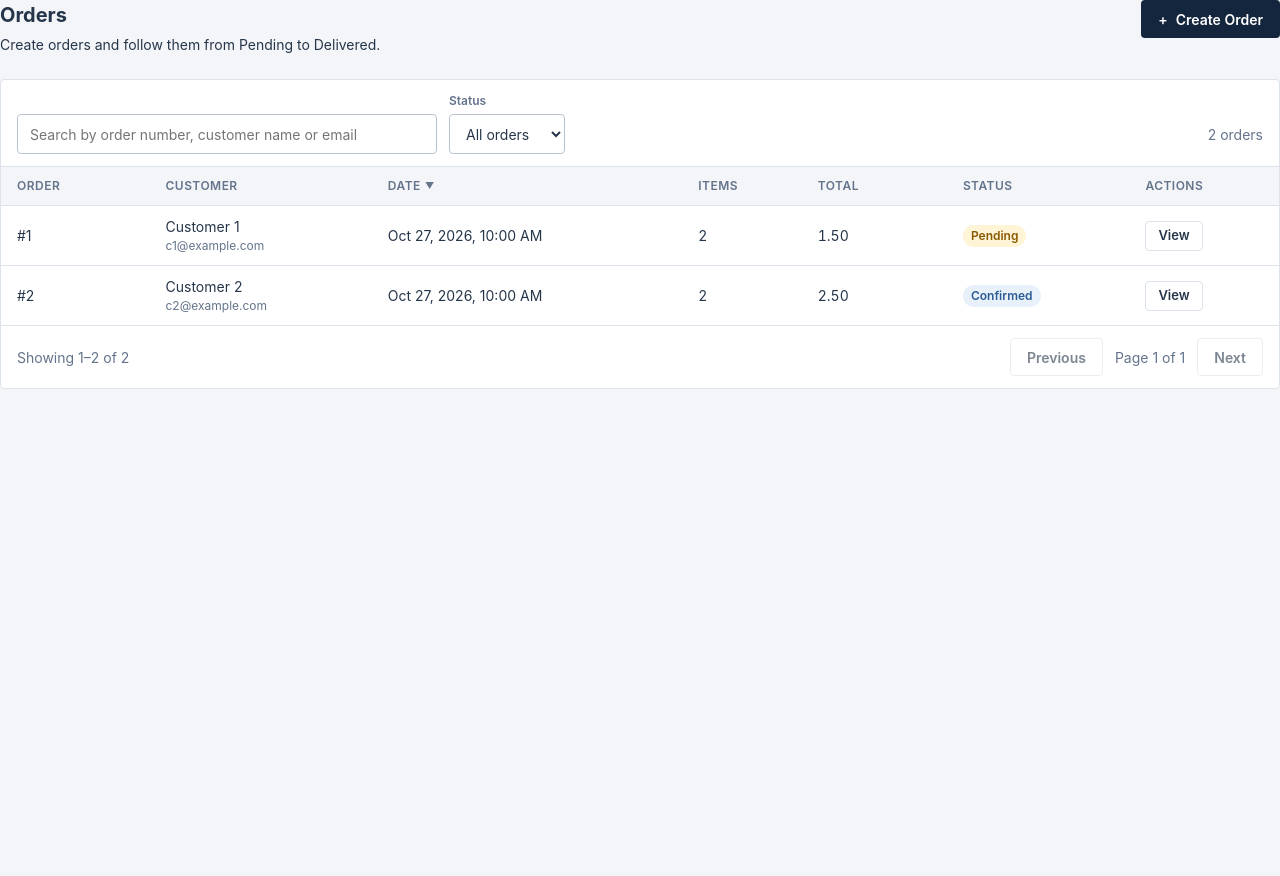
Test case: creating an order › a partial success is shown as created, says not to create it again, and reloads the list
expect the text "Customer 1" is shown: met, box [166,218,240,235]
Click the button "+ Create Order".
click(1211, 19)  # box [1141,0,1279,38]
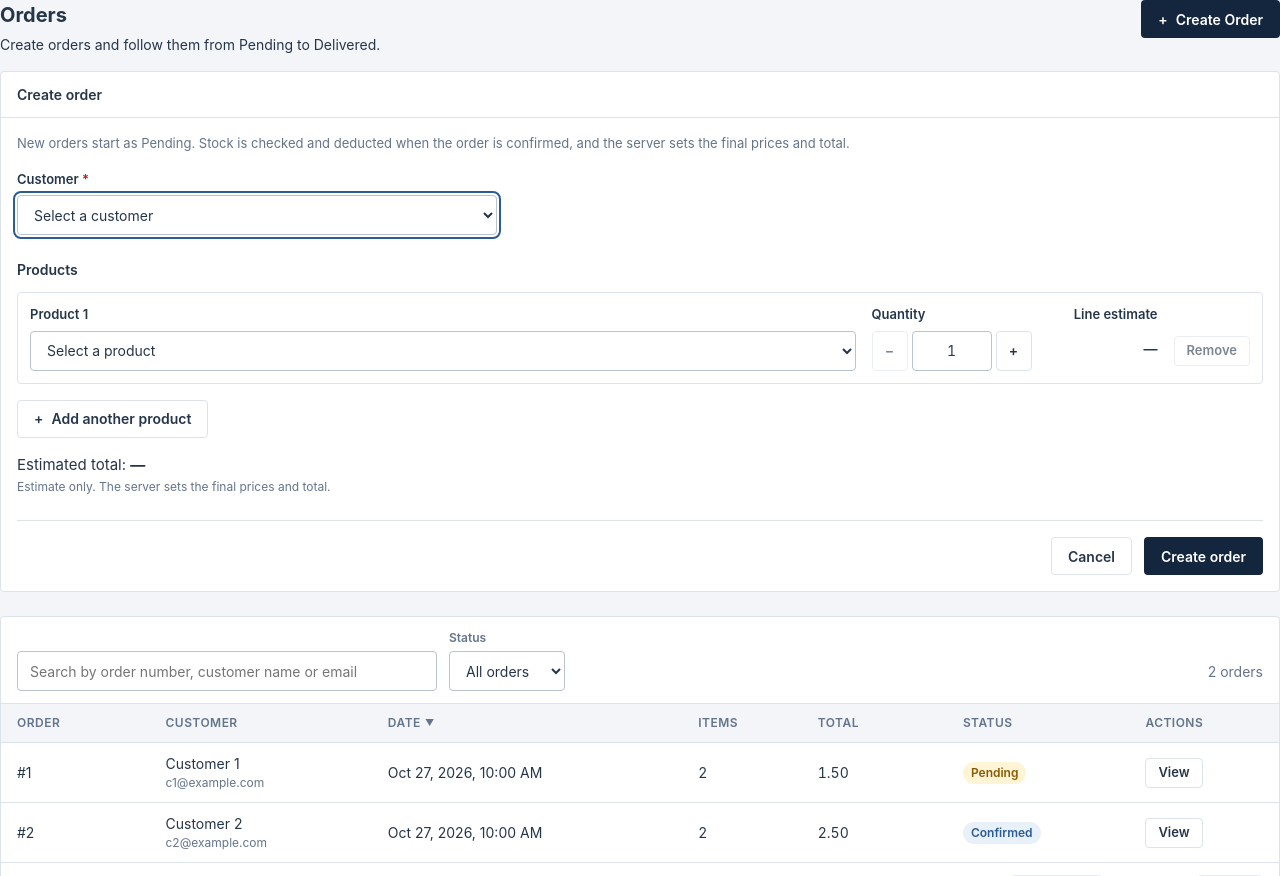
expect the dropdown labelled "Customer *" is shown: met
Select "Ann Lee (ann@example.com)" in the dropdown labelled "Customer *" at (257, 215), box [17,195,497,235]
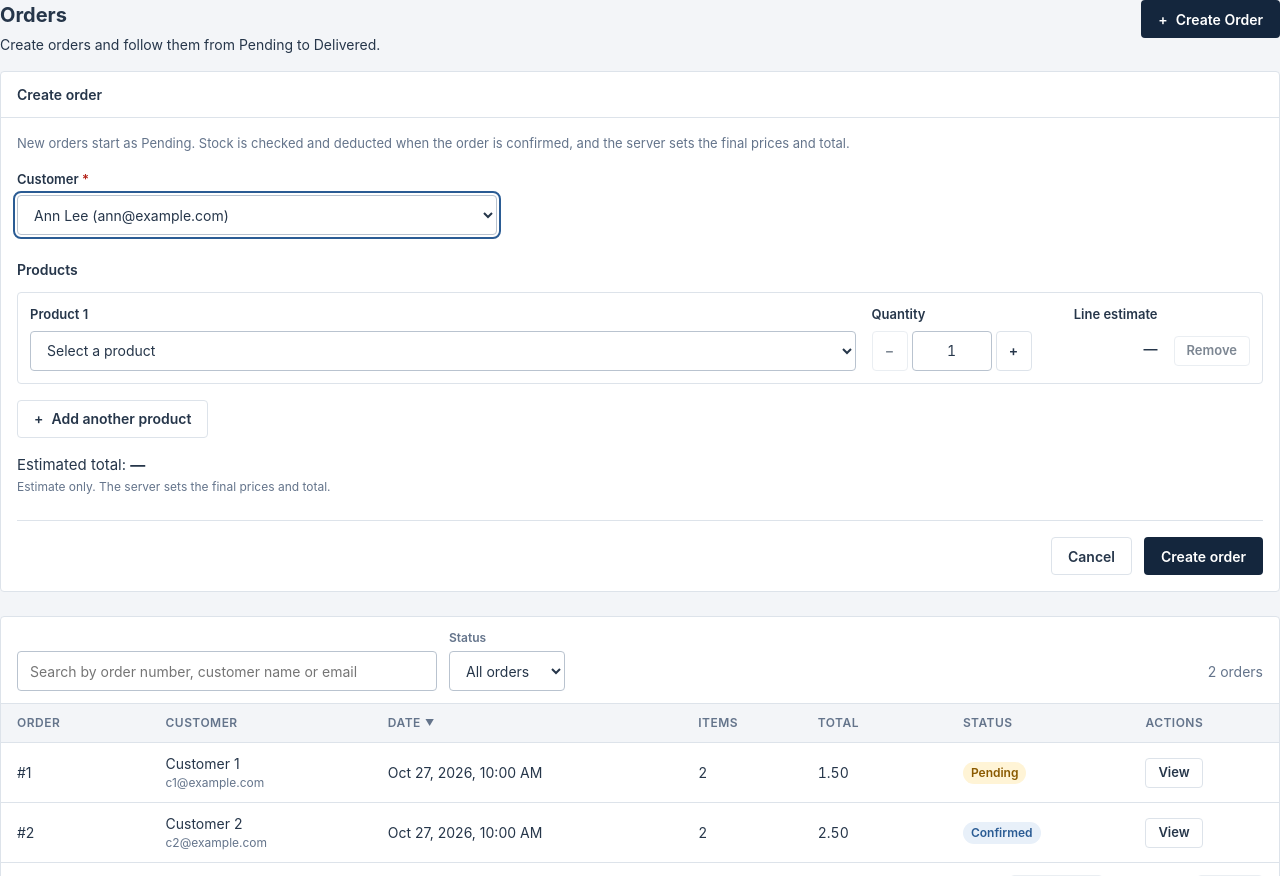
Select "AAA-1 — Widget (10.00)" in the dropdown labelled "Product 1" at (443, 350), box [30,330,856,370]
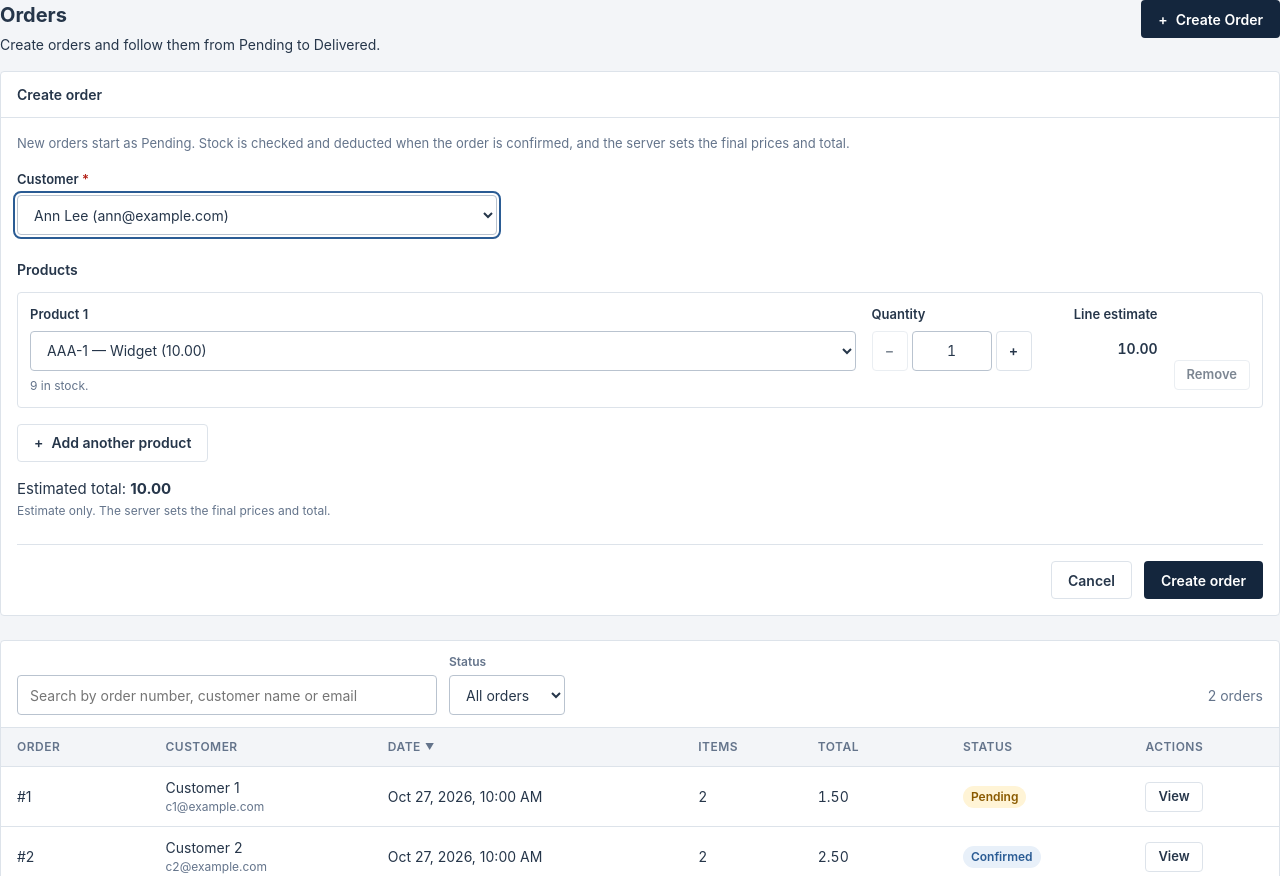
Click the button "Create order".
click(1204, 580)  # box [1144,561,1263,599]
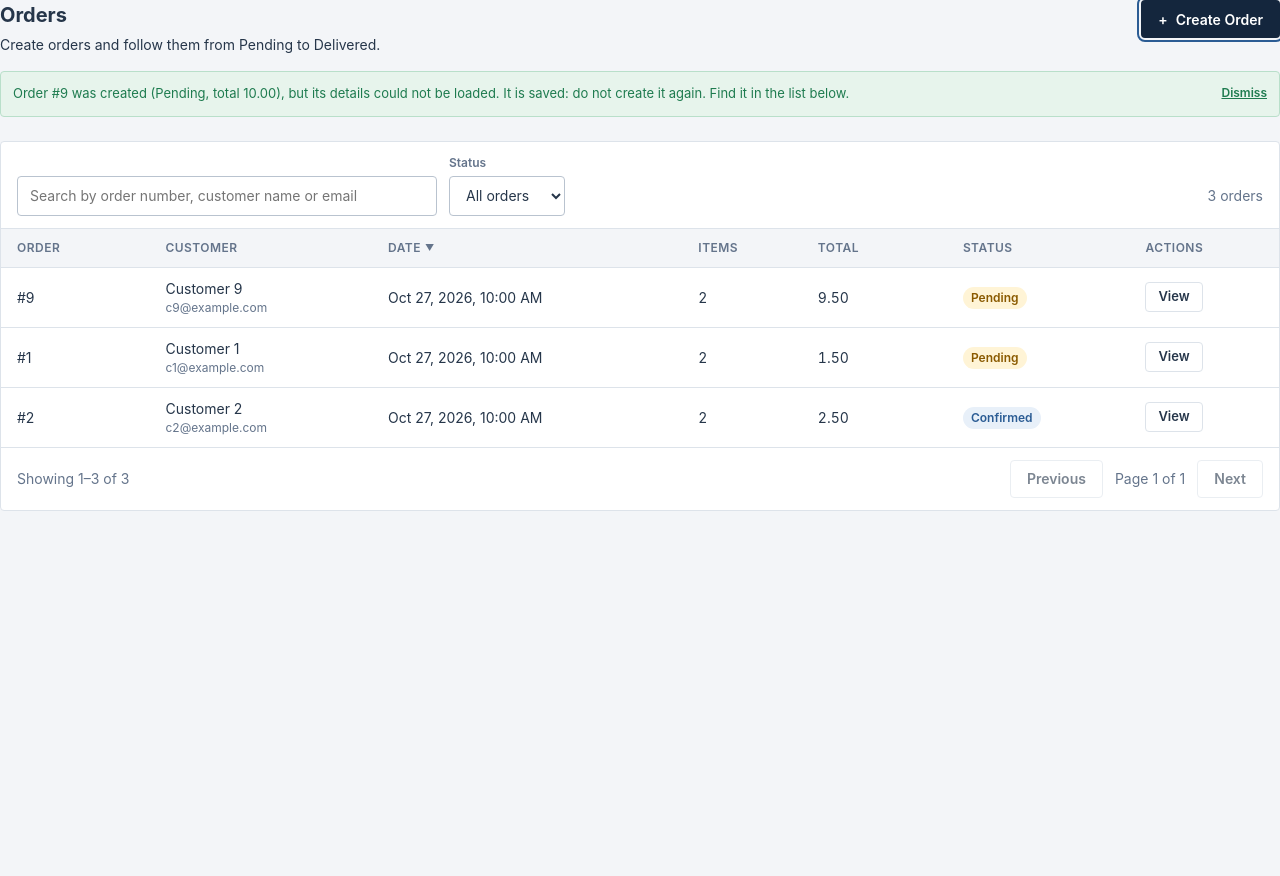
expect the text "Order #9 was created" shows "details could not be loaded": met, box [13,85,849,101]
expect the text "Order #9 was created" shows "do not create it again": met, box [13,85,849,101]
expect the text "Order #9 was created" shows "Find it in the list below": met, box [13,85,849,101]
